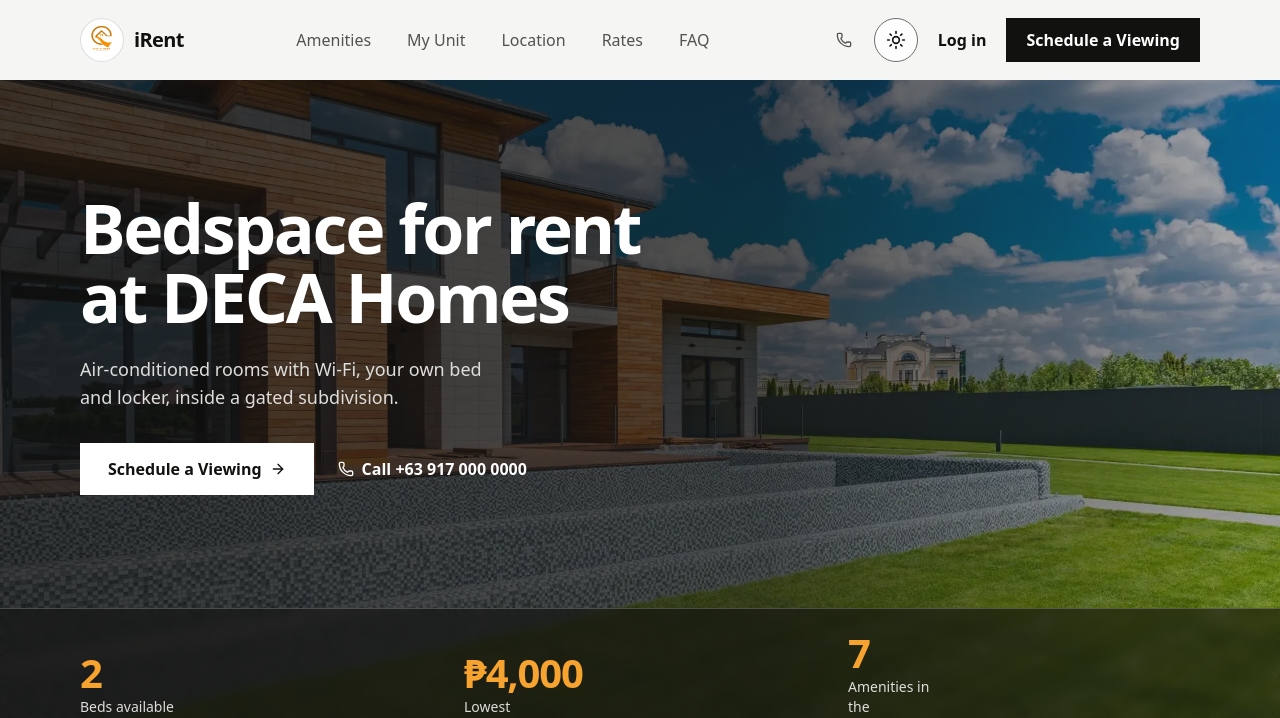
Test: Schedule a Viewing modal › opens from the hero button and returns focus to it on close
The width and height of the screenshot is (1280, 718).
Click the button "Schedule a Viewing" below "Bedspace for rent at DECA Homes" at (197, 469), box [80,443,314,495]
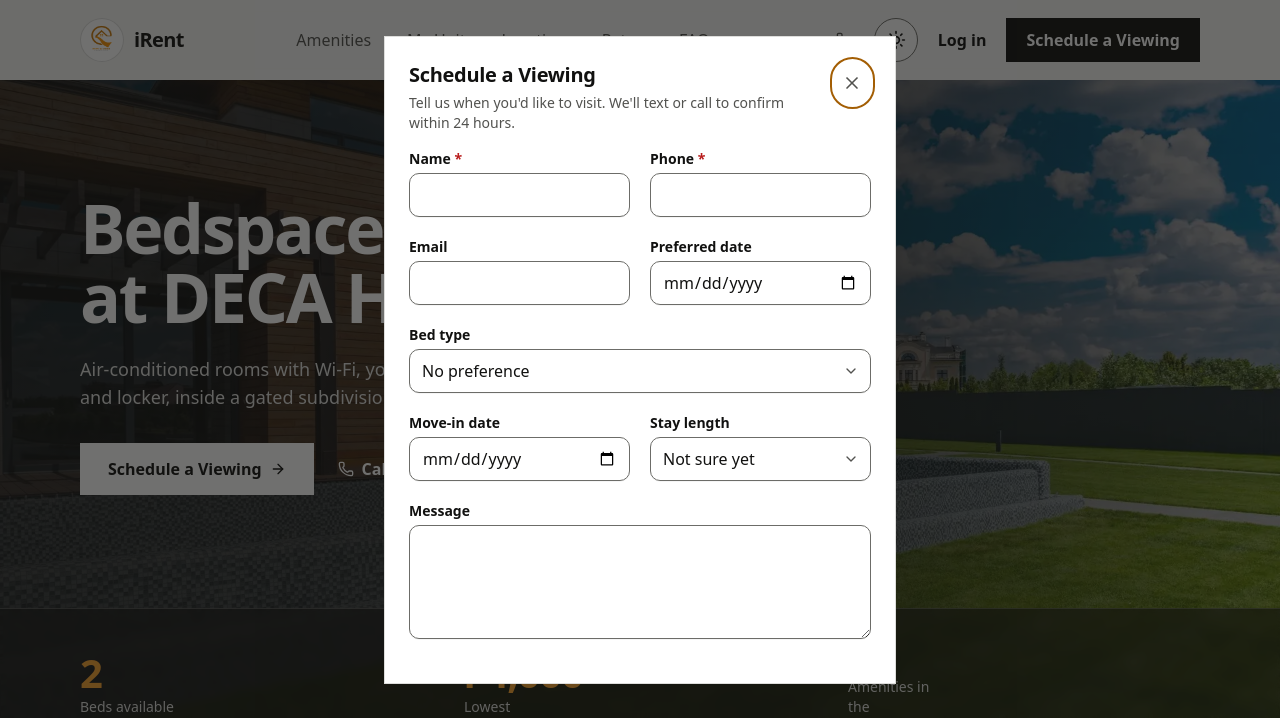
Now the dropdown labelled "Bed type" is shown, box [409,349,871,393]
Press Escape
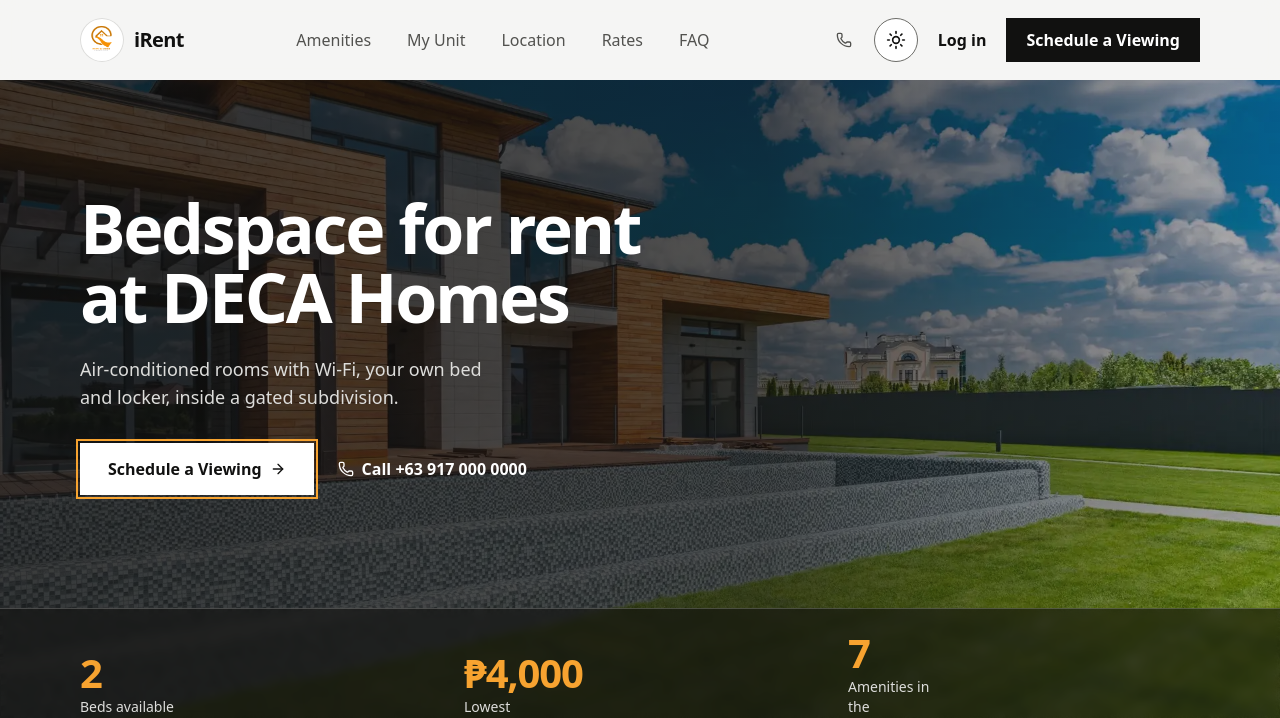
Now the dialog is gone
